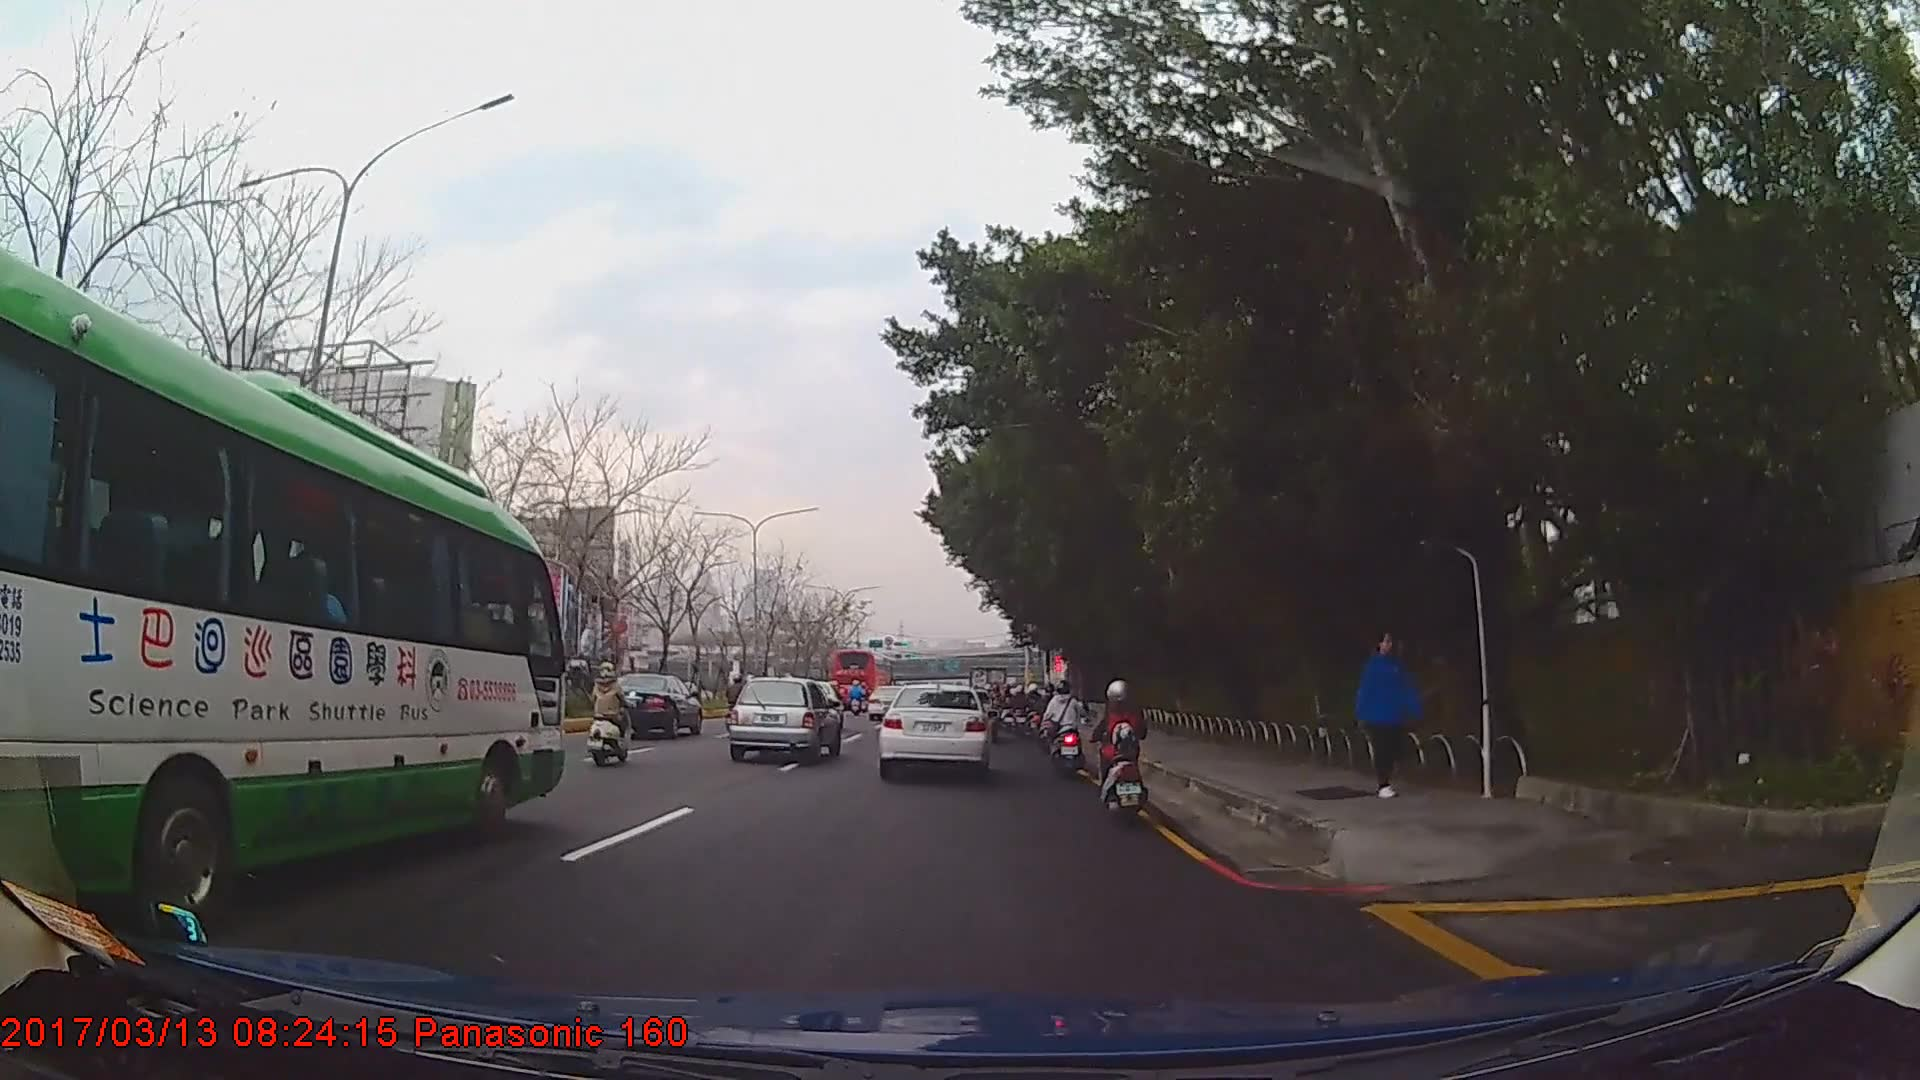pedestrian: (1353, 631, 1412, 799)
rider: (1095, 678, 1147, 825), (588, 661, 636, 770), (1042, 683, 1085, 782), (1037, 686, 1058, 752), (727, 674, 749, 725)
vehicle: (0, 239, 565, 943), (878, 682, 992, 780), (726, 674, 840, 762), (600, 672, 700, 741), (829, 648, 898, 710)
